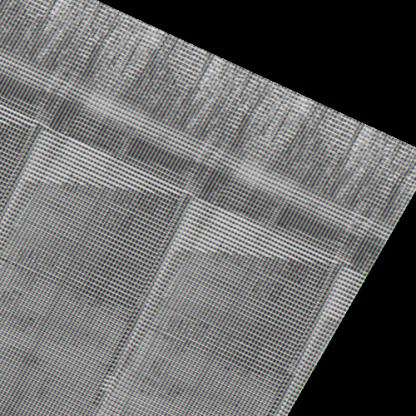Damage: (151, 66, 379, 262)
